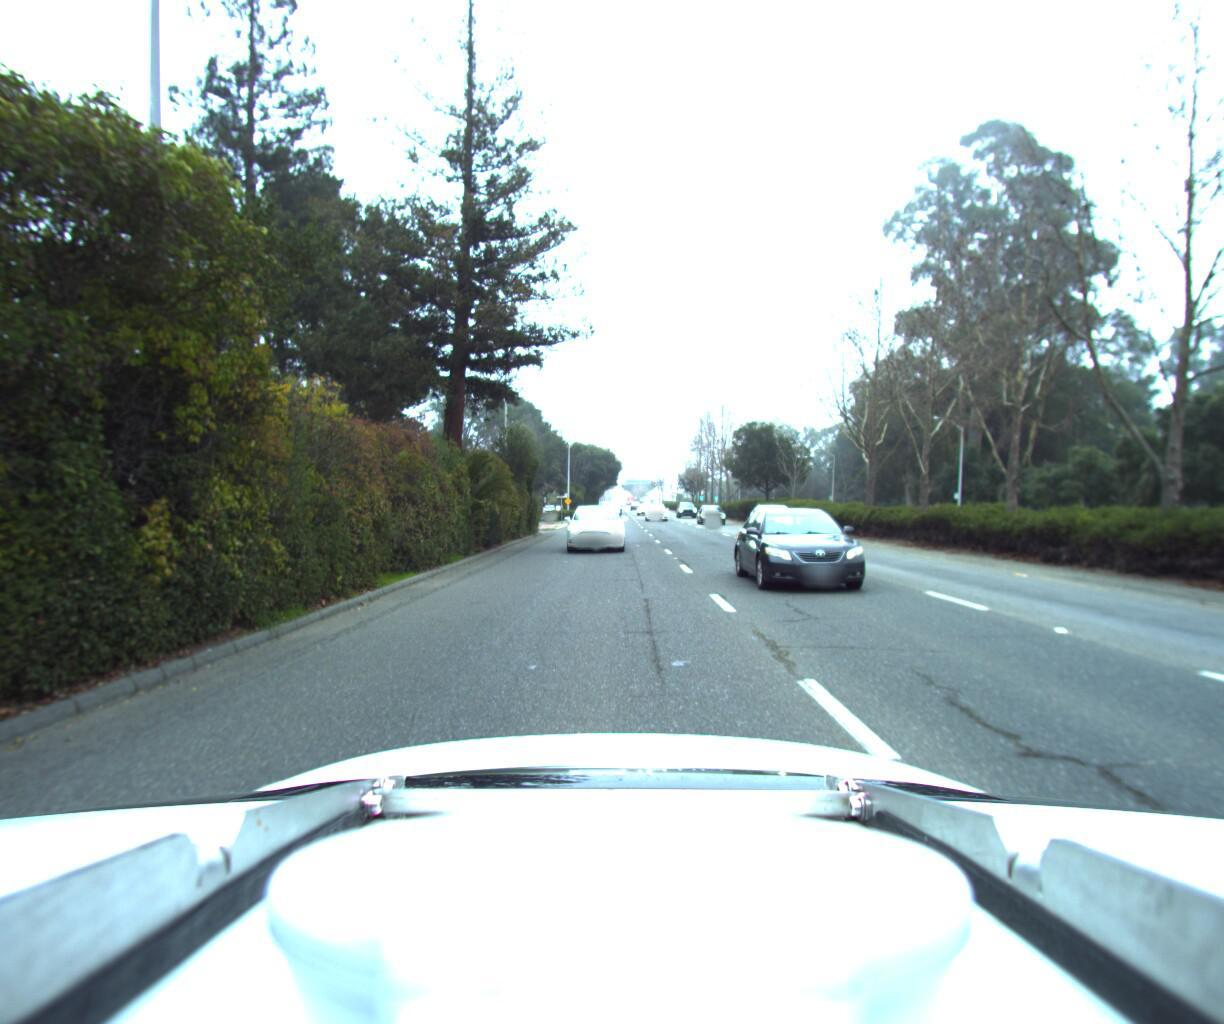car: (733, 496, 904, 606), (556, 495, 625, 549), (749, 494, 810, 532), (697, 495, 731, 518), (644, 495, 672, 514)
